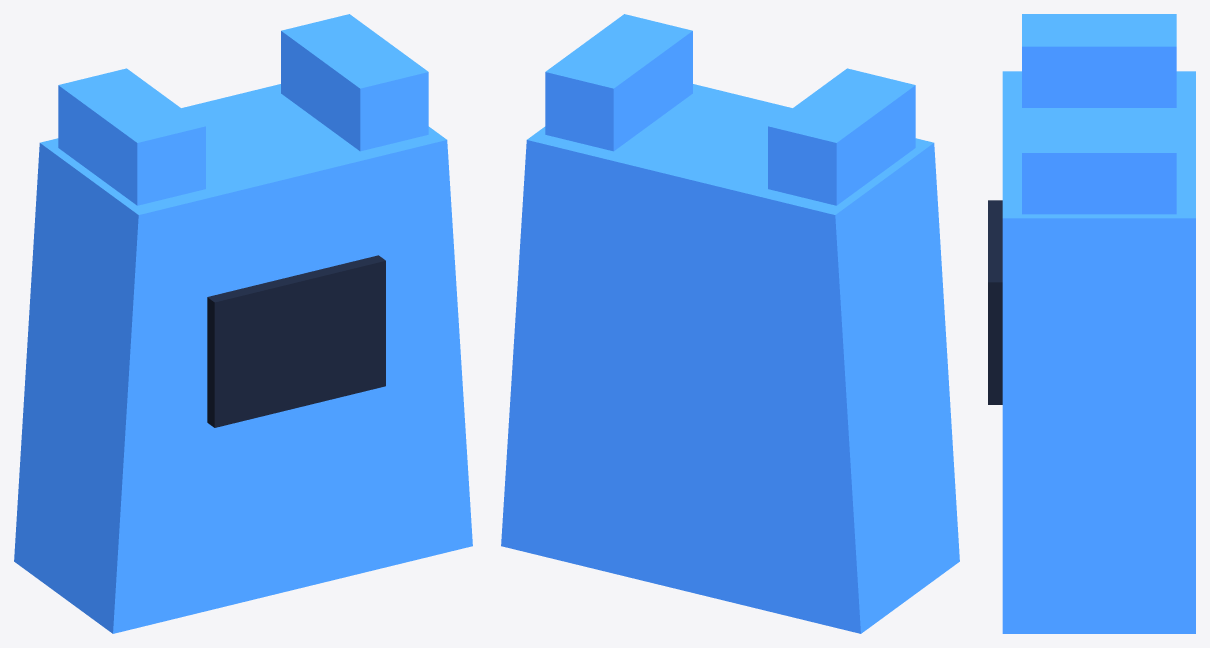
File: pk_armor.glb
The picture shows the model from 3 angles, left to right: view 1: azimuth 30°, elevation 25°; view 2: azimuth 150°, elevation 25°; view 3: azimuth 270°, elevation 25°; orthographic projection. The views are drawn at different scales.
Visible parts, largest first — view 1: pk_armor; view 2: pk_armor; view 3: pk_armor.
Boxes of the visible parts, <box> form: pk_armor: <box>14,14,472,633</box>; pk_armor: <box>501,14,959,633</box>; pk_armor: <box>988,14,1195,633</box>.
Bounding box in the file's own units: 0.42 × 0.53 × 0.215.
